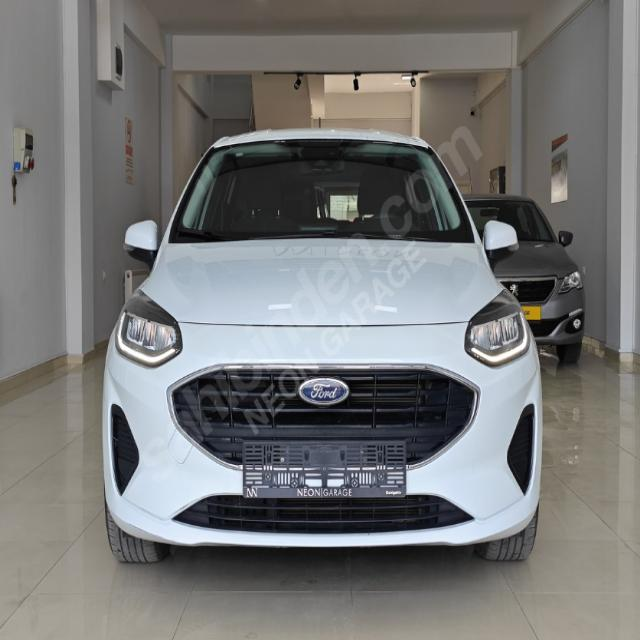ford: (296, 372, 350, 408)
